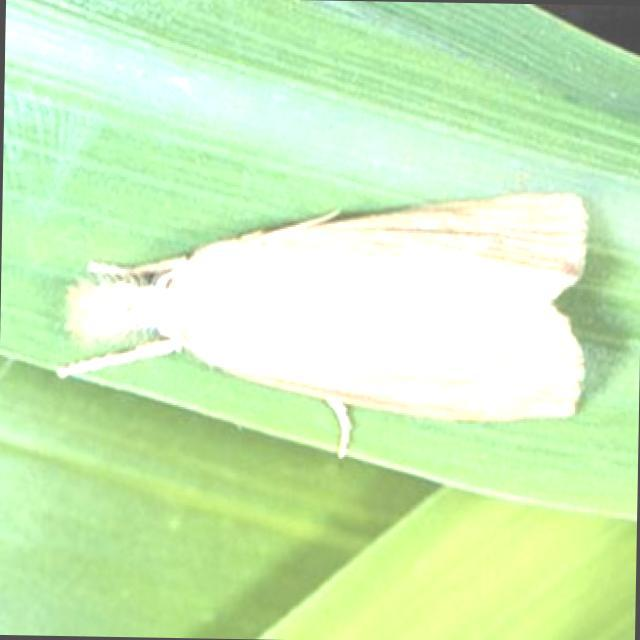stem borer: (58, 193, 587, 455)
